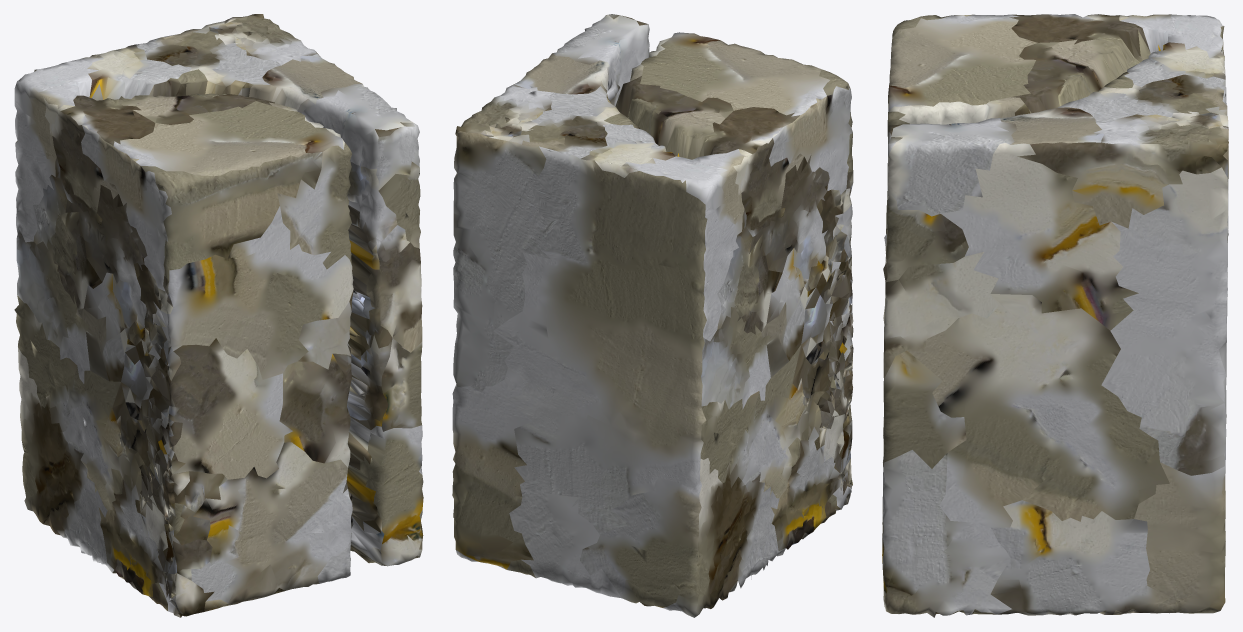
File: nobook2.fbx
3 views of the same model, side by side, from view 1: azimuth 30°, elevation 25°; view 2: azimuth 150°, elevation 25°; view 3: azimuth 270°, elevation 25° (orthographic). The views are drawn at different scales.
Parts seen in each view (by area): view 1: book1.003; view 2: book1.003; view 3: book1.003.
Boxes of the visible parts, left/top/right/bottom form: book1.003: left=14, top=14, right=423, bottom=617; book1.003: left=452, top=14, right=853, bottom=617; book1.003: left=882, top=14, right=1228, bottom=617.
Bounding box in the file's own units: 175 × 287 × 188.
